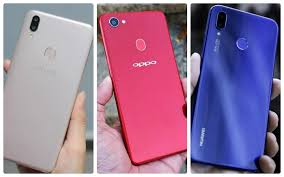oppo: (189, 6, 284, 171), (1, 6, 94, 171), (94, 8, 189, 165)
